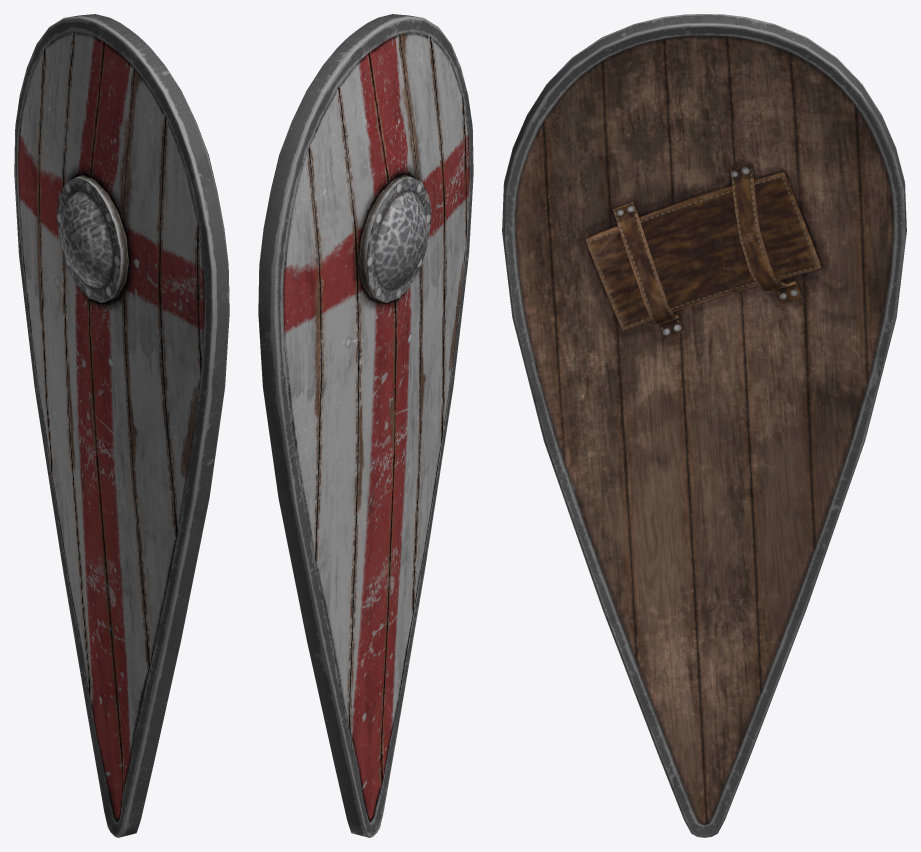
Rendered from Kite_Shield_01.fbx.
The picture shows the model from 3 angles, left to right: view 1: azimuth 30°, elevation 25°; view 2: azimuth 150°, elevation 25°; view 3: azimuth 270°, elevation 25°; orthographic projection.
Parts seen in each view (by area): view 1: Kite_Shield_01_LOD0; view 2: Kite_Shield_01_LOD0; view 3: Kite_Shield_01_LOD0.
Boxes of the visible parts, x1,y1,x2,y2 form: Kite_Shield_01_LOD0: (14, 14, 229, 837); Kite_Shield_01_LOD0: (258, 14, 473, 837); Kite_Shield_01_LOD0: (502, 14, 906, 837).
Size of what is drawn, in the model's own units: 9.92 by 125 by 56.16.
